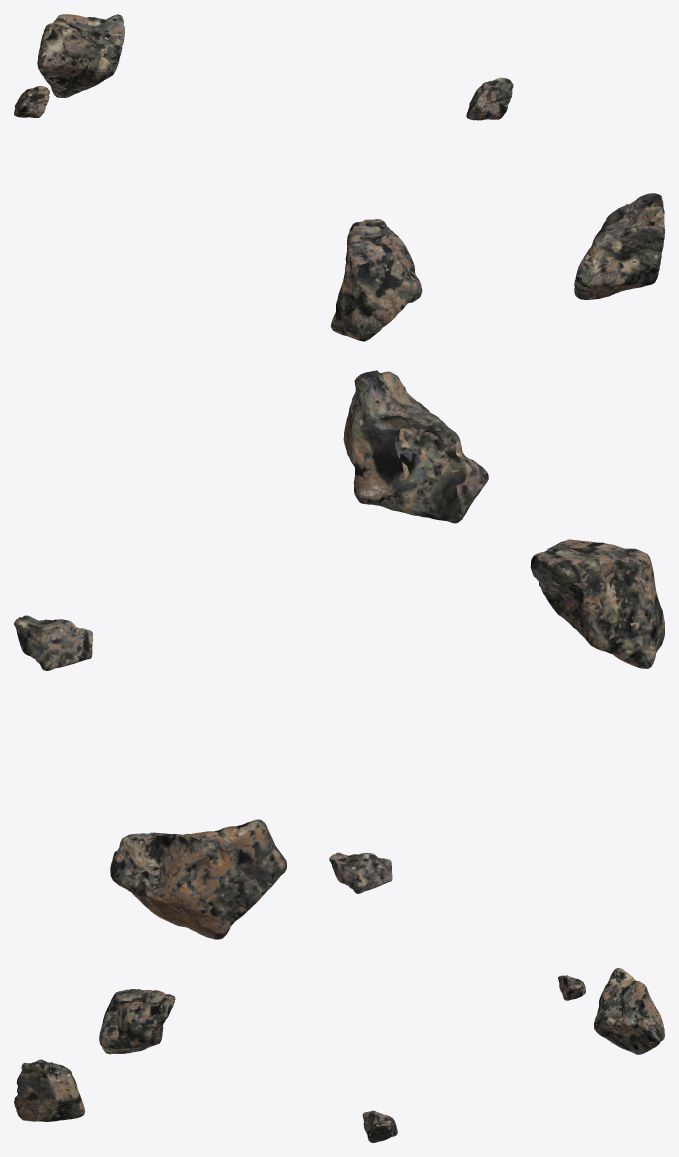
File: rockformation.dae
3 views of the same model, one above another, from view 1: azimuth 30°, elevation 25°; view 2: azimuth 150°, elevation 25°; view 3: azimuth 270°, elevation 25° (orthographic). The views are drawn at different scales.
Visible parts, largest first — view 1: Rockformation; view 2: Rockformation; view 3: Rockformation.
Boxes of the visible parts, x1,y1,x2,y2 form: Rockformation: (14, 14, 664, 341); Rockformation: (14, 370, 664, 939); Rockformation: (14, 968, 664, 1142).
Size of the model in its own units: 4.7 by 8.14 by 1.32.
Materials: 1 (1 with a texture image).
